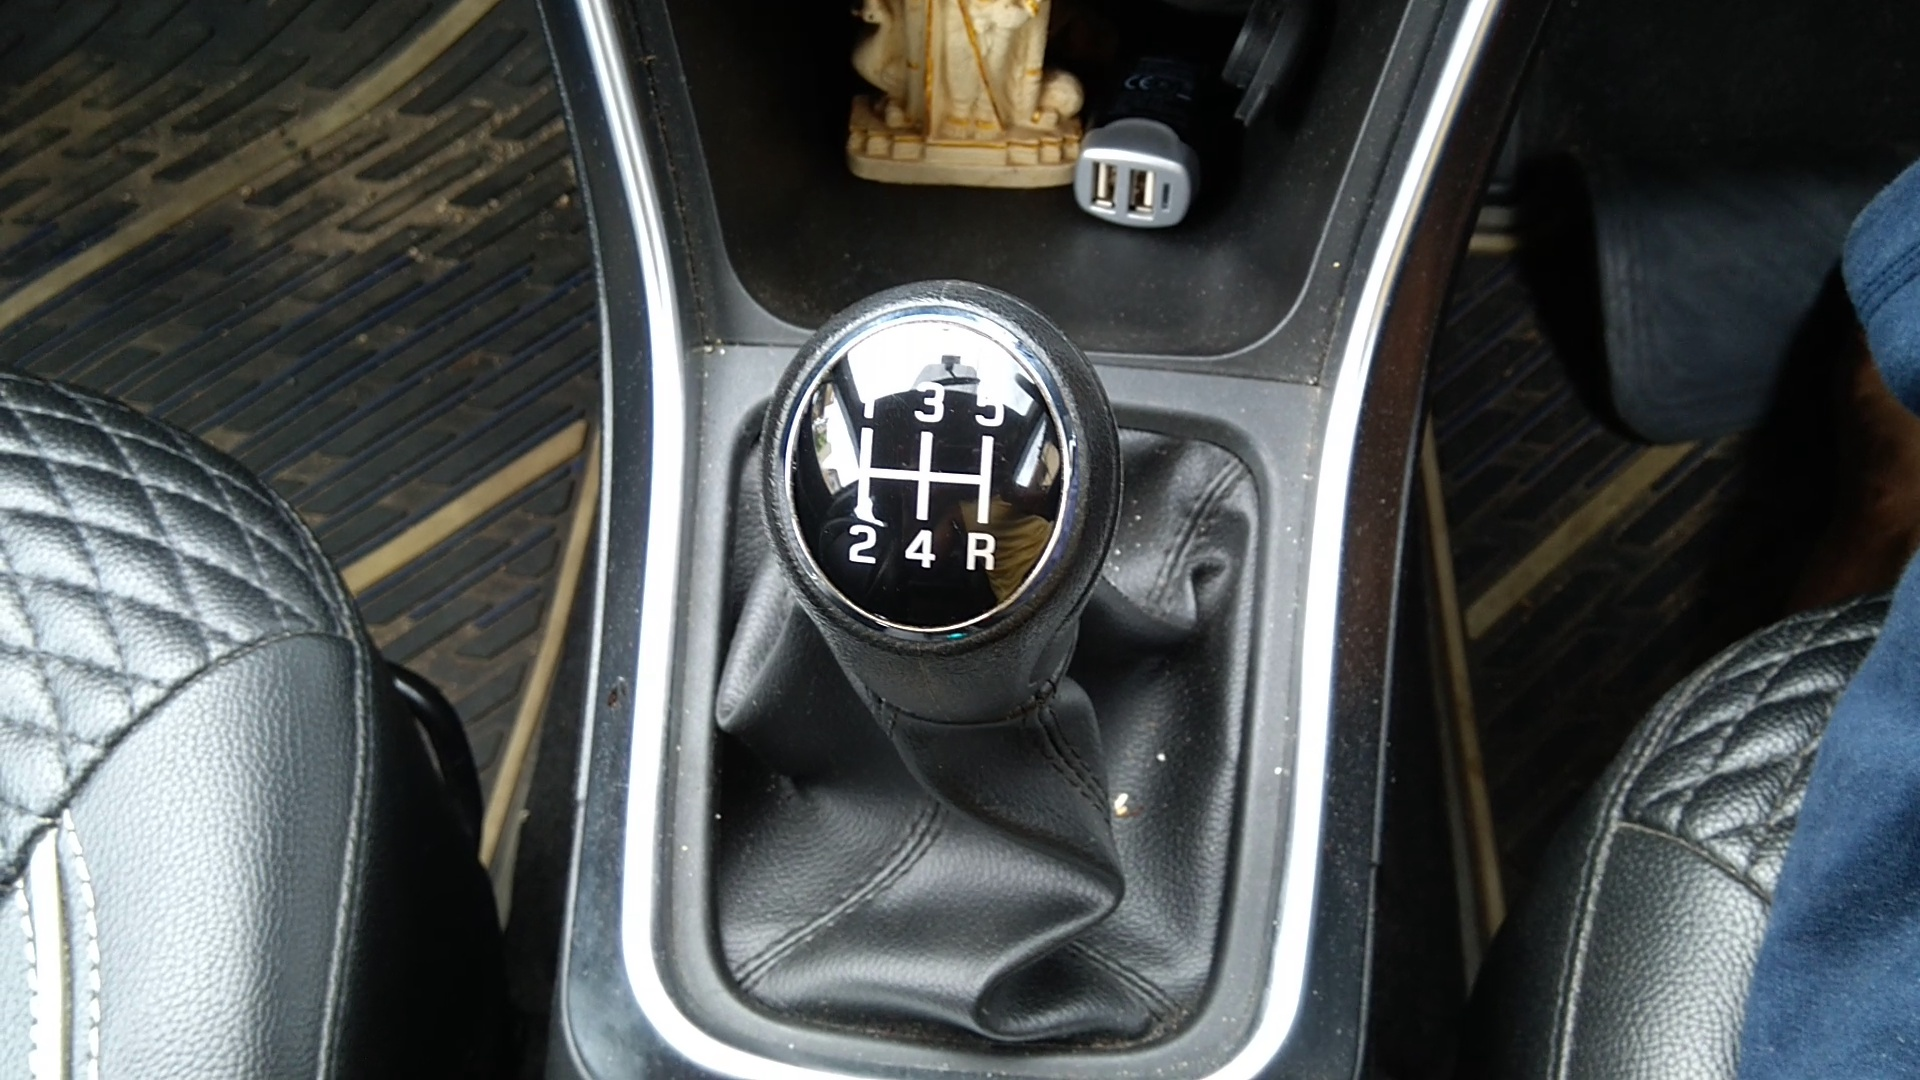manual_gear: (761, 276, 1135, 740)
